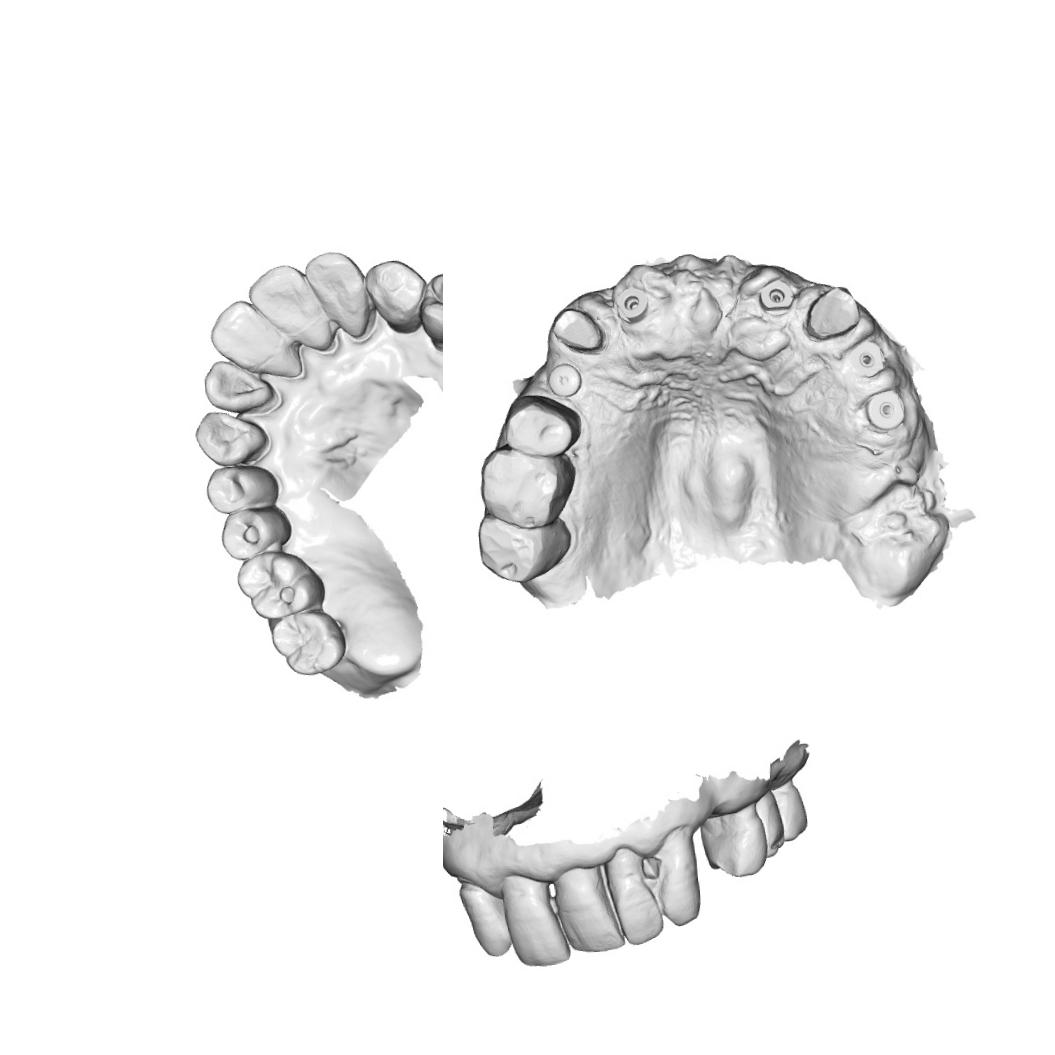canine: (362, 256, 430, 339), (192, 406, 273, 470), (456, 876, 512, 959)
crown: (800, 282, 864, 344), (548, 300, 606, 358)
implant: (864, 388, 906, 432), (612, 284, 652, 326), (850, 338, 889, 381), (541, 360, 583, 399), (756, 277, 796, 317)
incisor: (495, 868, 572, 970), (302, 246, 374, 342), (548, 874, 626, 956), (244, 258, 319, 338), (205, 296, 280, 362), (199, 354, 280, 414), (607, 870, 666, 948), (656, 857, 706, 930)
molar: (475, 442, 579, 532), (472, 507, 574, 587), (234, 545, 328, 621), (268, 608, 349, 677), (768, 778, 812, 844)
premolar: (499, 389, 584, 468), (698, 806, 770, 880), (218, 506, 296, 560), (202, 462, 282, 514), (750, 786, 786, 858), (416, 268, 443, 354)
